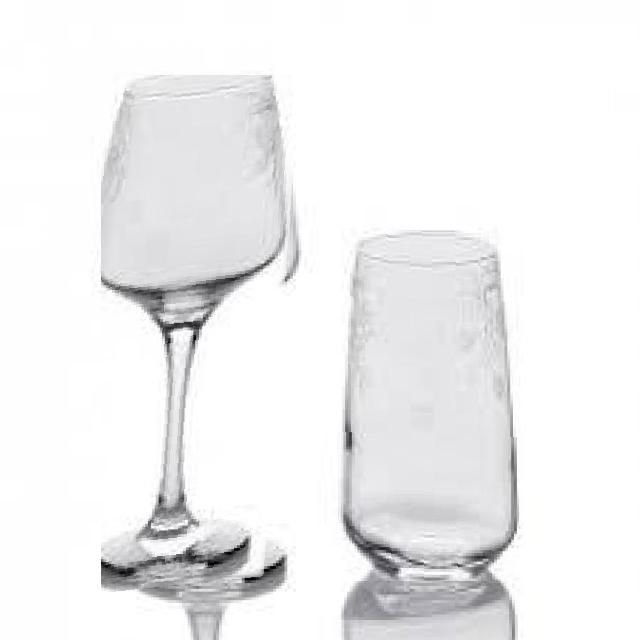Glass: (101, 75, 302, 597), (337, 229, 519, 581)
